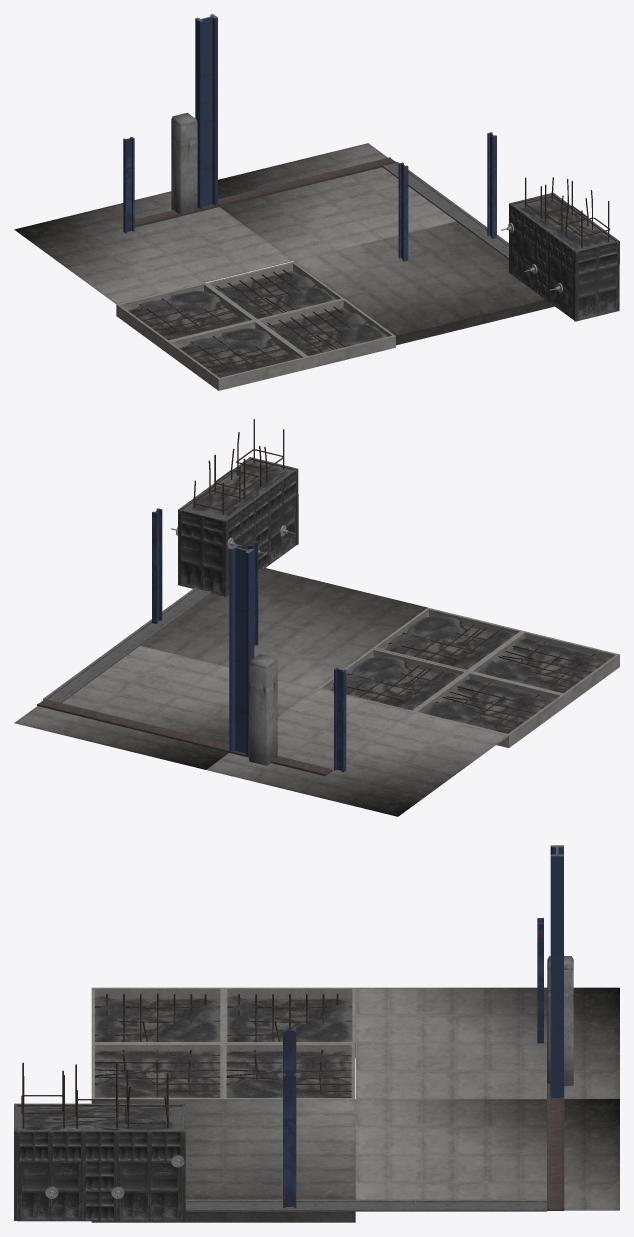
File: BuildingMap_0_2.gltf
The picture shows the model from 3 angles, top to bottom: view 1: azimuth 30°, elevation 25°; view 2: azimuth 150°, elevation 25°; view 3: azimuth 270°, elevation 25°; orthographic projection. The views are drawn at different scales.
Visible parts, largest first — view 1: SM_Floors_Thick_117, SM_Floors_Plain_24, SM_Floors_Plain_24.001, SM_Cement_Cast5, SM_Cement_Cast4, SM_Cement_Cast3, SM_Cement_Cast4.001, SM_Building_Pieces_2_SteelRudder148, SM_Building_Pieces_ConcretePillar4, SM_Floors_Plain_2, StaticMeshComponent9, StaticMeshComponent10 (+10 smaller); view 2: SM_Floors_Plain_24, SM_Floors_Thick_117, SM_Floors_Plain_24.001, SM_Cement_Cast3, SM_Cement_Cast5, SM_Cement_Cast4, SM_Cement_Cast4.001, SM_Building_Pieces_2_SteelRudder148, SM_Building_Pieces_ConcretePillar4, SM_Floors_Plain_2, StaticMeshComponent8, StaticMeshComponent10 (+10 smaller); view 3: SM_Floors_Plain_24, SM_Floors_Plain_24.001, SM_Floors_Thick_117, SM_Cement_Cast5, SM_Cement_Cast4, SM_Cement_Cast3, SM_Cement_Cast4.001, StaticMeshComponent6, StaticMeshComponent7, SM_Floors_Plain_2, SM_Building_Pieces_2_SteelRudder148, SM_Building_Pieces_2_SteelRudder170 (+16 smaller).
Boxes of the visible parts, box(x1,y1,x2,y2) form: SM_Floors_Thick_117: box(293, 221, 554, 345); SM_Floors_Plain_24: box(14, 191, 293, 304); SM_Floors_Plain_24.001: box(218, 143, 455, 260); SM_Cement_Cast5: box(167, 320, 307, 390); SM_Cement_Cast4: box(256, 298, 395, 369); SM_Cement_Cast3: box(116, 283, 255, 353); SM_Cement_Cast4.001: box(205, 261, 343, 320); SM_Building_Pieces_2_SteelRudder148: box(195, 14, 217, 208); SM_Building_Pieces_ConcretePillar4: box(171, 112, 197, 214); SM_Floors_Plain_2: box(514, 195, 614, 250); StaticMeshComponent9: box(574, 264, 619, 321); StaticMeshComponent10: box(548, 256, 573, 319); SM_Floors_Plain_24: box(206, 689, 508, 816); SM_Floors_Thick_117: box(140, 568, 427, 688); SM_Floors_Plain_24.001: box(14, 645, 316, 769); SM_Cement_Cast3: box(413, 671, 564, 747); SM_Cement_Cast5: box(469, 631, 619, 706); SM_Cement_Cast4: box(372, 607, 523, 671); SM_Cement_Cast4.001: box(317, 648, 467, 711); SM_Building_Pieces_2_SteelRudder148: box(229, 544, 254, 755); SM_Building_Pieces_ConcretePillar4: box(249, 654, 277, 765); SM_Floors_Plain_2: box(183, 460, 292, 519); StaticMeshComponent8: box(178, 535, 227, 596); StaticMeshComponent10: box(269, 495, 296, 564); SM_Floors_Plain_24: box(355, 987, 619, 1099); SM_Floors_Plain_24.001: box(355, 1099, 619, 1210); SM_Floors_Thick_117: box(91, 1099, 355, 1222); SM_Cement_Cast5: box(91, 987, 223, 1043); SM_Cement_Cast4: box(91, 1043, 223, 1099); SM_Cement_Cast3: box(223, 987, 355, 1058); SM_Cement_Cast4.001: box(223, 1043, 354, 1099); StaticMeshComponent6: box(17, 1161, 83, 1221); StaticMeshComponent7: box(116, 1161, 182, 1221); SM_Floors_Plain_2: box(17, 1106, 182, 1130); SM_Building_Pieces_2_SteelRudder148: box(550, 845, 563, 1097); SM_Building_Pieces_2_SteelRudder170: box(283, 1073, 296, 1207).
Size of the model in its own units: 17.18 by 8.62 by 18.35.
11 materials, 11 textured.
